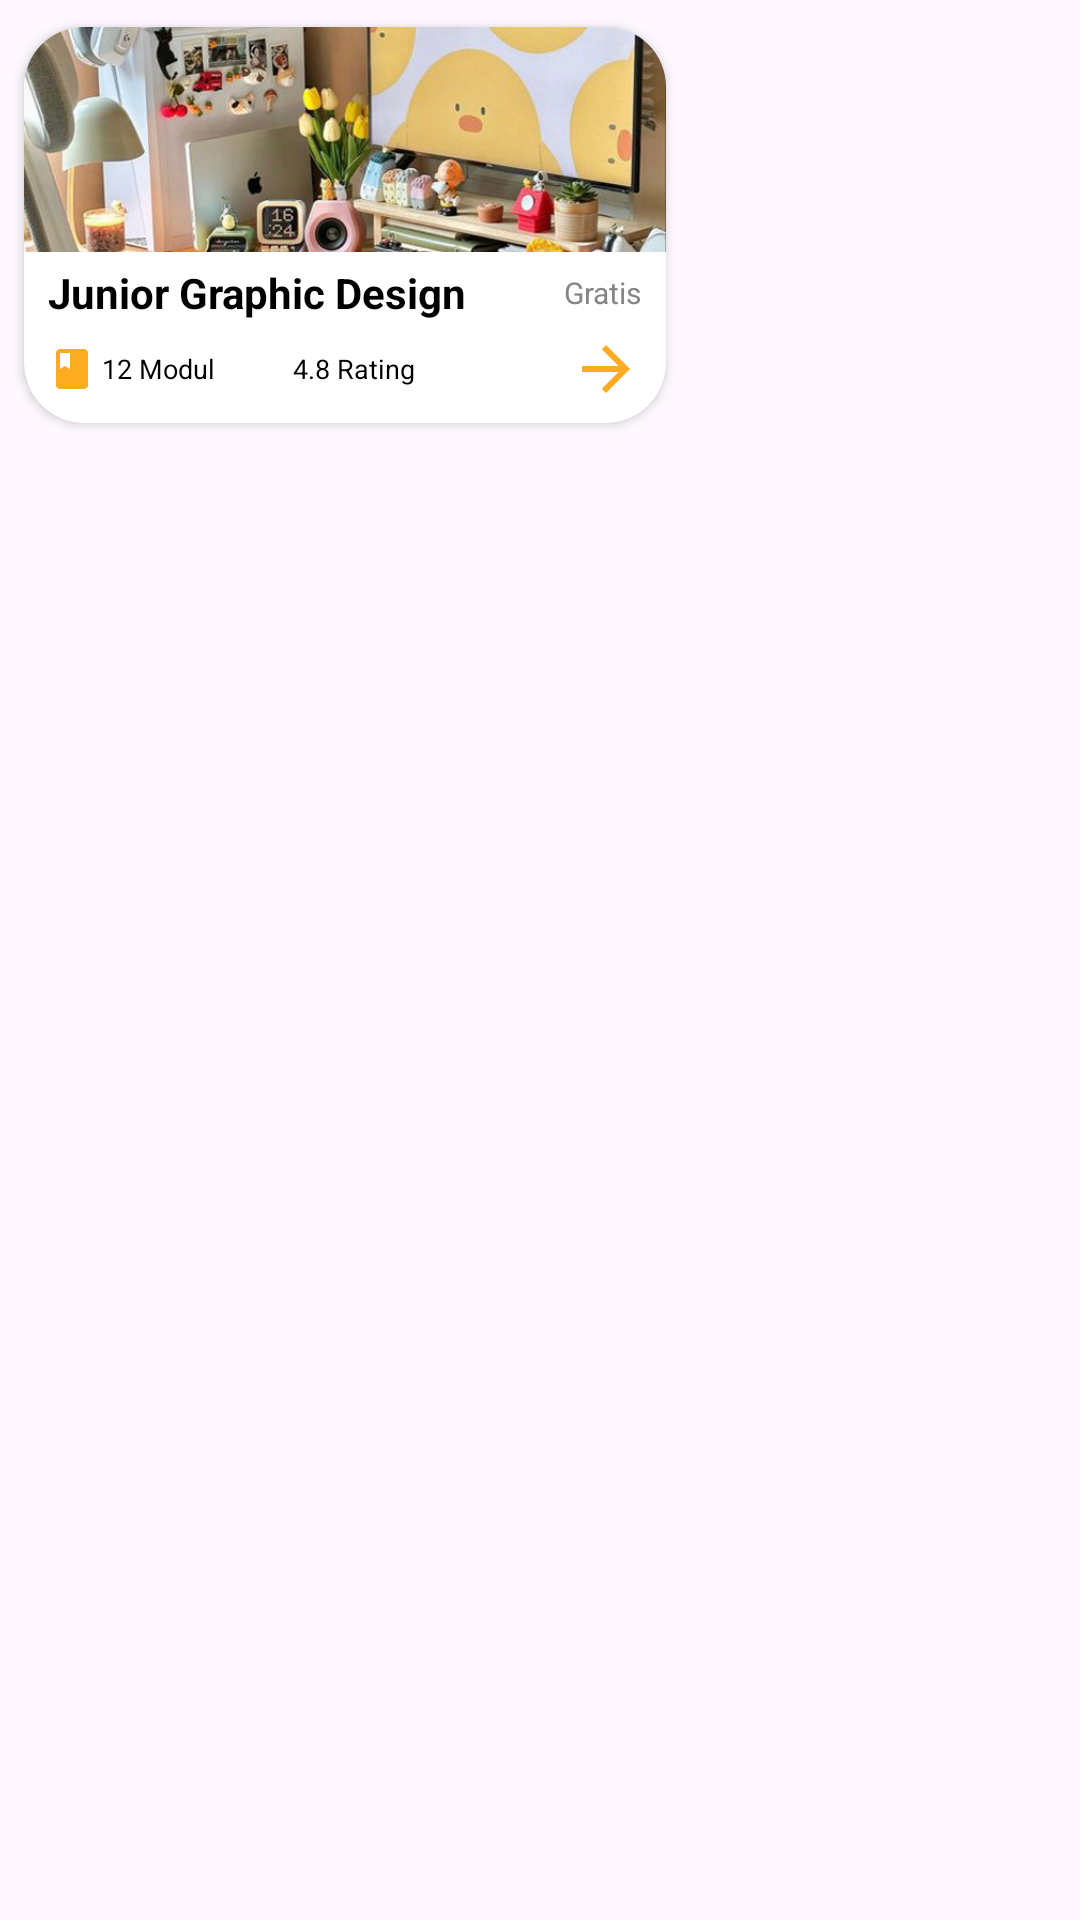

Point at icon controls on the screen. Image size 1080 × 1920, points as (x,y).
arrow forward: (606,369)
book: (72,369)
